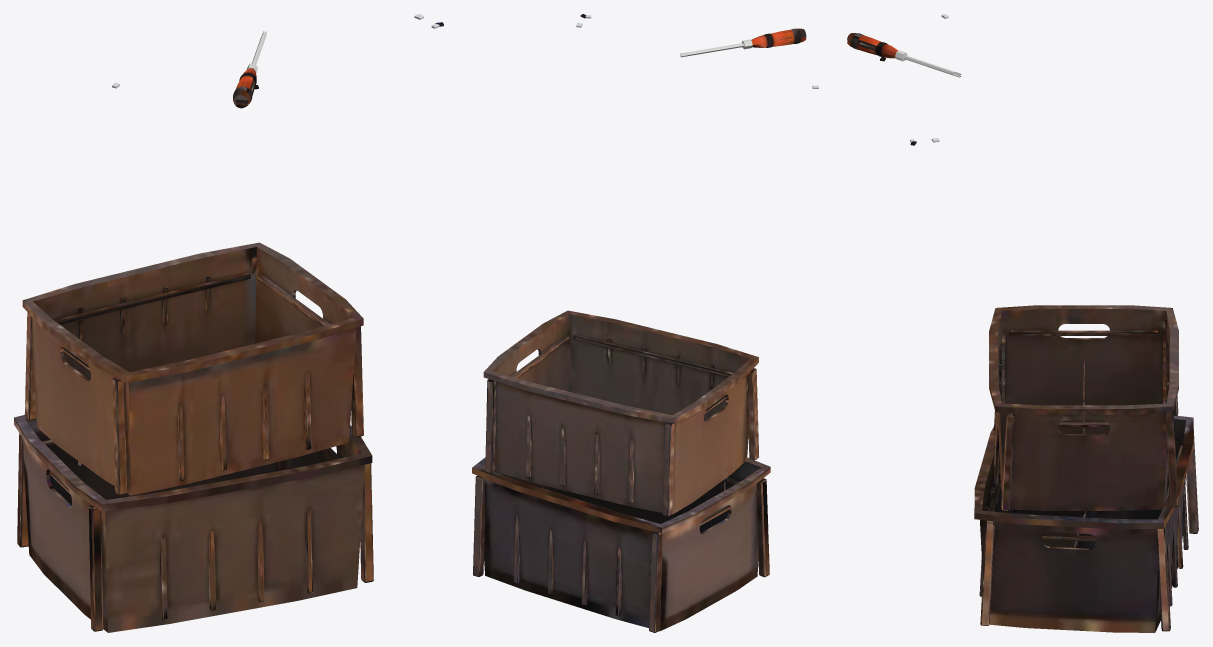
File: desk_misc.glb
3 views of the same model, side by side, from view 1: azimuth 30°, elevation 25°; view 2: azimuth 150°, elevation 25°; view 3: azimuth 270°, elevation 25° (orthographic). The views are drawn at different scales.
Visible parts, largest first — view 1: tote_2__mesh, tote_1__mesh, screwdriver__mesh; view 2: tote_2__mesh, tote_1__mesh, screwdriver__mesh; view 3: tote_2__mesh, tote_1__mesh, screwdriver__mesh.
Boxes of the visible parts, x1=… form: tote_2__mesh: x1=22, y1=242, x2=363, y2=495; tote_1__mesh: x1=14, y1=415, x2=373, y2=632; screwdriver__mesh: x1=233, y1=31, x2=266, y2=108; tote_2__mesh: x1=483, y1=310, x2=758, y2=516; tote_1__mesh: x1=472, y1=457, x2=770, y2=632; screwdriver__mesh: x1=680, y1=28, x2=806, y2=57; tote_2__mesh: x1=989, y1=305, x2=1178, y2=510; tote_1__mesh: x1=974, y1=415, x2=1198, y2=632; screwdriver__mesh: x1=847, y1=33, x2=961, y2=77.
Bounding box in the file's own units: 0.4127 × 0.7568 × 0.4719.
2 materials, 2 textured.
